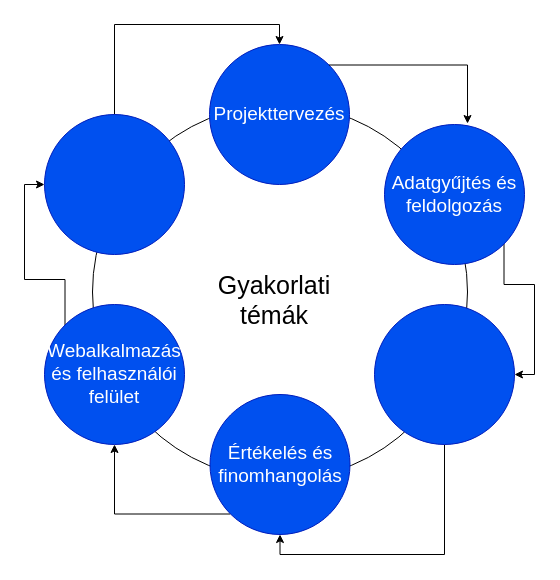
Image size: 560x580. Some labels were removed from this diagram. The shapes that lost their labels are listed below. From the top down, each one's box as (x1, y1, x2, y2) in pixels, then its label:
(44, 114, 184, 254): Deployment
(374, 304, 514, 444): Modell kialakítása és kiképzése
